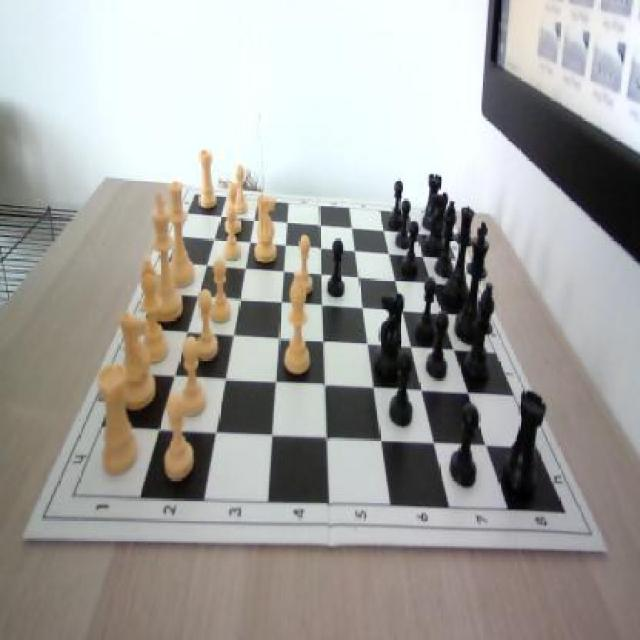bishop: (464, 283, 496, 384), (435, 198, 457, 280)
black-bishop: (454, 220, 490, 345)
black-king: (372, 292, 406, 382), (426, 192, 448, 253)
black-knight: (449, 403, 478, 487), (390, 352, 416, 430), (424, 311, 448, 380), (416, 275, 436, 343), (329, 237, 348, 298), (402, 220, 420, 277), (395, 198, 410, 252), (389, 180, 405, 230)
black-pawn: (443, 205, 475, 310)
black-queen: (500, 389, 546, 496), (423, 174, 442, 231)
black-rook: (134, 258, 171, 364), (283, 275, 310, 377)
white-bishop: (144, 192, 183, 325)
white-king: (117, 311, 156, 412), (252, 194, 278, 260)
white-knight: (163, 394, 195, 484), (177, 334, 208, 418), (192, 288, 220, 364), (208, 259, 232, 326), (294, 237, 314, 296), (222, 206, 240, 263), (231, 164, 249, 214), (225, 183, 242, 233)
white-pawn: (163, 182, 195, 288)
white-queen: (97, 363, 137, 476), (198, 149, 217, 212)
